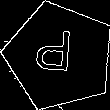P_S: (38, 29, 81, 83)
